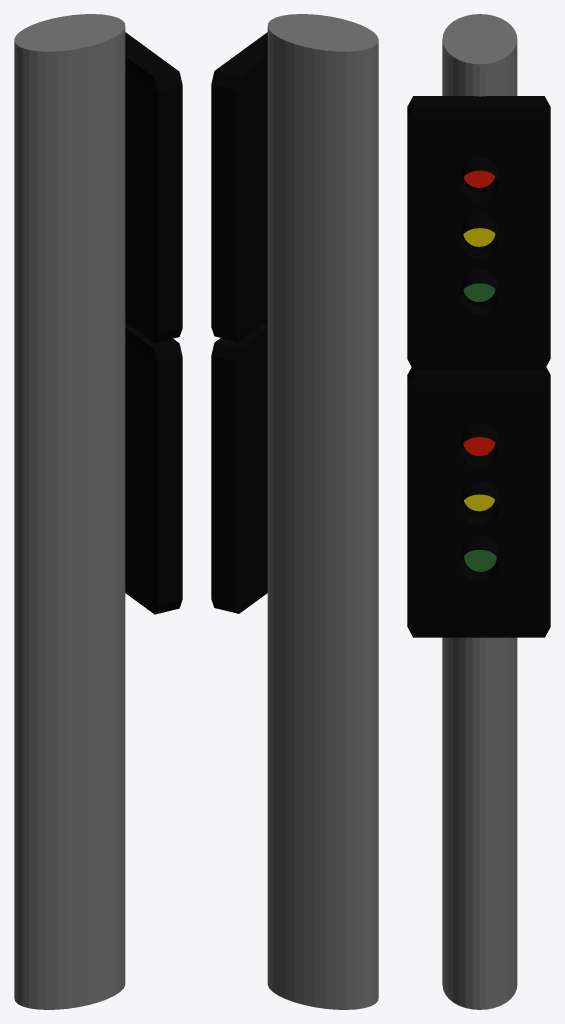
The model's file is DoubleTrafficLights.fbx.
3 views of the same model, side by side, from view 1: azimuth 30°, elevation 25°; view 2: azimuth 150°, elevation 25°; view 3: azimuth 270°, elevation 25° (orthographic).
Visible parts, largest first — view 1: TrafficLight_LOD0; view 2: TrafficLight_LOD0; view 3: TrafficLight_LOD0, Green.001, Red.002, Yellow, Green, Red, Yellow.001.
Part boxes in pixels (x1=…): TrafficLight_LOD0: x1=14, y1=14, x2=182, y2=1009; TrafficLight_LOD0: x1=211, y1=14, x2=378, y2=1009; TrafficLight_LOD0: x1=407, y1=14, x2=550, y2=1009; Green.001: x1=464, y1=549, x2=496, y2=571; Red.002: x1=463, y1=437, x2=495, y2=455; Yellow: x1=463, y1=228, x2=495, y2=246; Green: x1=463, y1=283, x2=495, y2=301; Red: x1=464, y1=170, x2=495, y2=187; Yellow.001: x1=464, y1=494, x2=494, y2=511.
Size of what is drawn, in the model's own units: 125 by 723 by 99.37.
